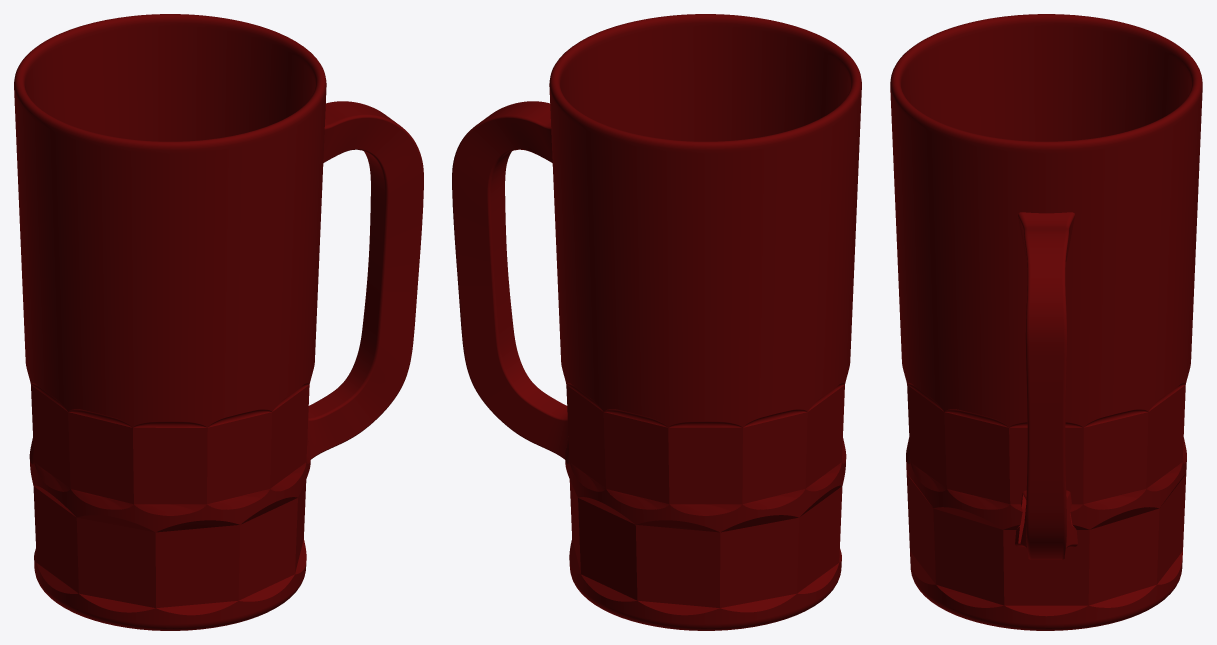
The model's file is pentas.glb.
The picture shows the model from 3 angles, left to right: view 1: azimuth 30°, elevation 25°; view 2: azimuth 150°, elevation 25°; view 3: azimuth 270°, elevation 25°; orthographic projection.
Size of the model in its own units: 0.1054 by 0.1325 by 0.0751.
